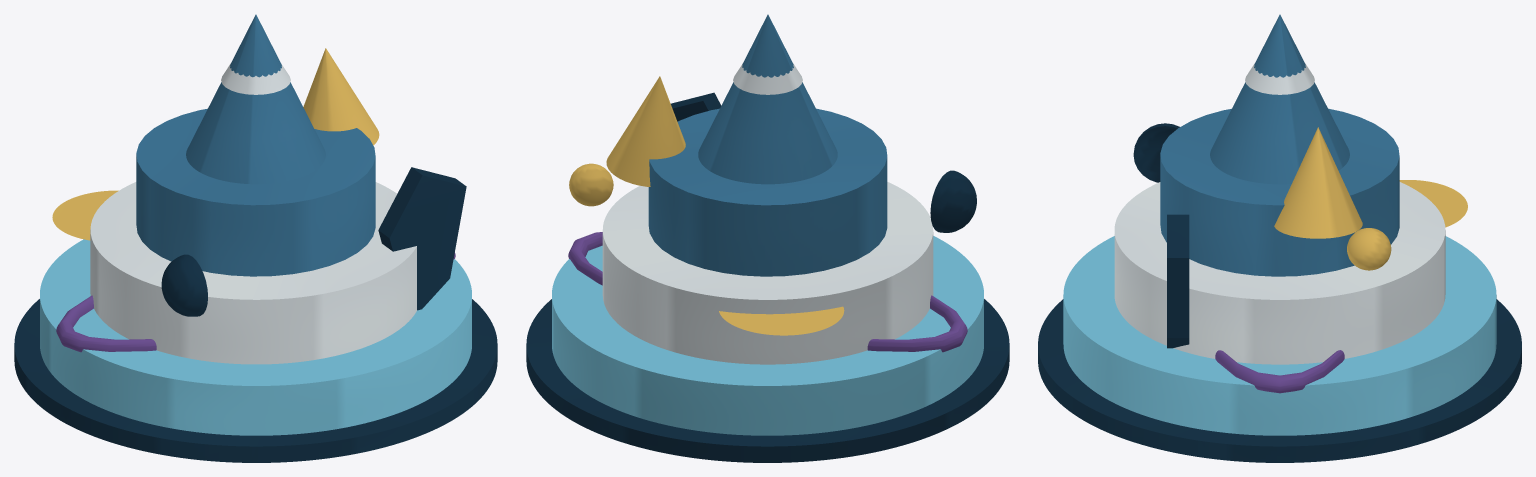
File: 0633_地貌图鉴_平顶山古冰川地貌.glb
3 renders of one model, left to right at view 1: azimuth 30°, elevation 25°; view 2: azimuth 150°, elevation 25°; view 3: azimuth 270°, elevation 25°, orthographic.
Parts seen in each view (by area): view 1: card_0633; view 2: card_0633; view 3: card_0633.
Part boxes in pixels (x1,y1,x2,y2): card_0633: (14,14,497,462); card_0633: (526,14,1009,462); card_0633: (1038,14,1521,462).
Size of the model in its own units: 1.26 by 1 by 1.26.
